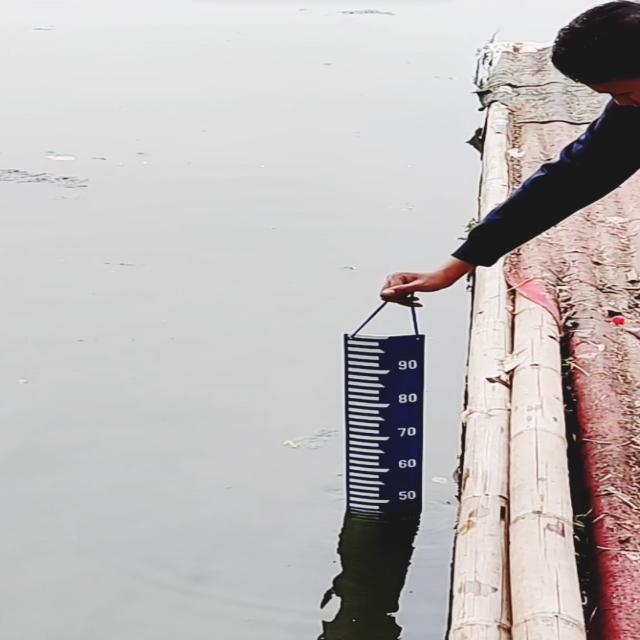water-meter: (330, 328, 440, 523)
